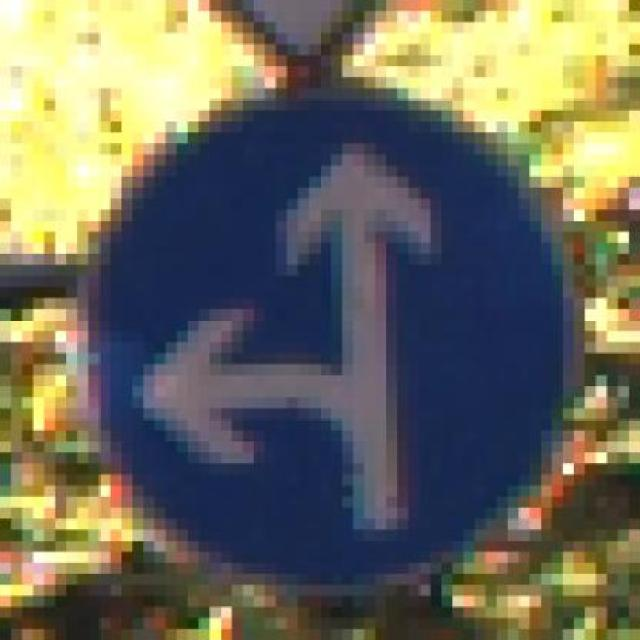Go straight or turn left: (66, 87, 596, 618)
